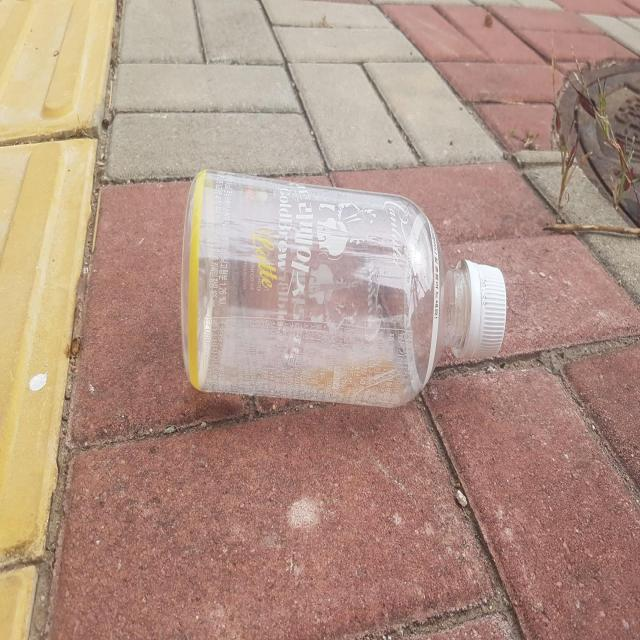plastic: (181, 169, 507, 406)
